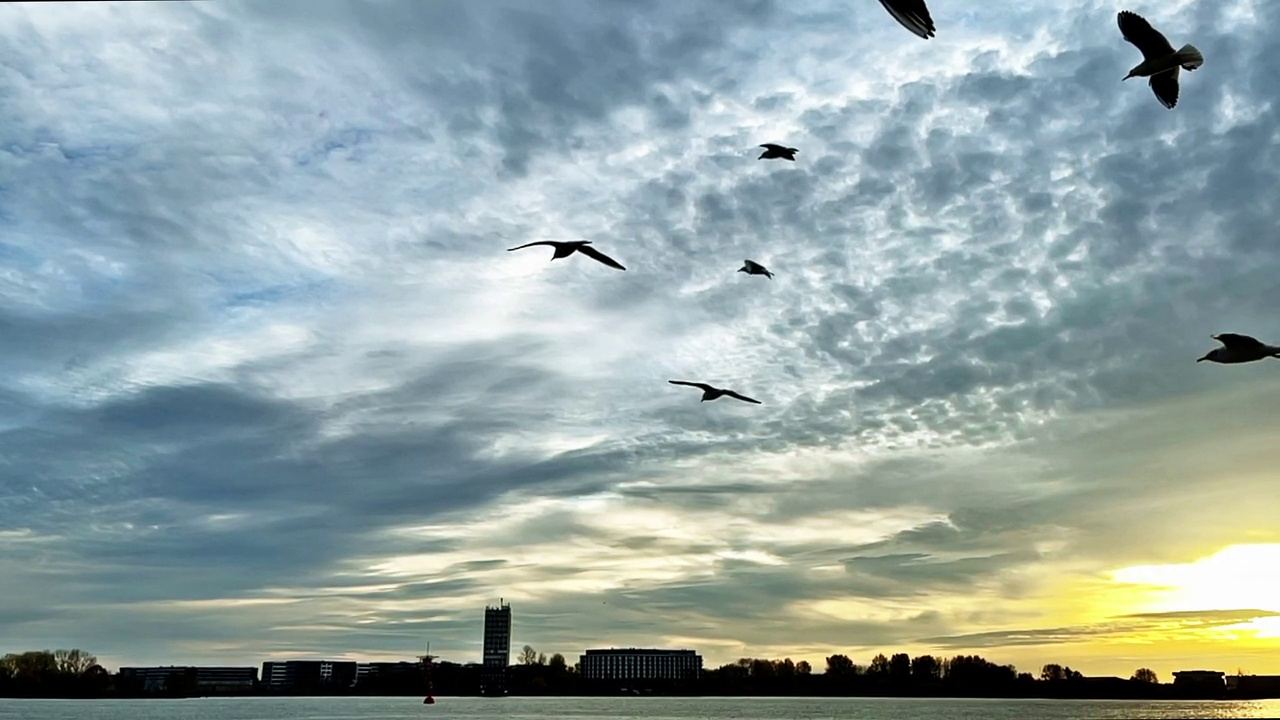bird: (1116, 8, 1205, 108), (508, 237, 624, 268), (1192, 334, 1280, 365), (879, 0, 935, 39), (672, 378, 761, 402), (757, 140, 797, 163), (736, 259, 773, 278)
